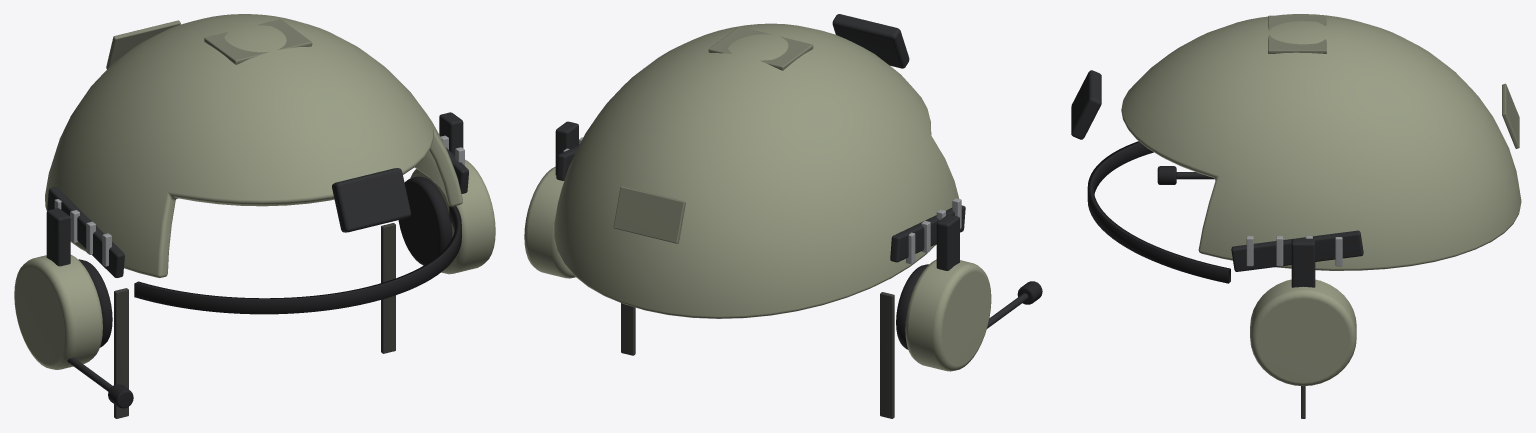
File: helmet_comms_T.glb
The picture shows the model from 3 angles, left to right: view 1: azimuth 30°, elevation 25°; view 2: azimuth 150°, elevation 25°; view 3: azimuth 270°, elevation 25°; orthographic projection. The views are drawn at different scales.
Parts seen in each view (by area): view 1: helmet@Head; view 2: helmet@Head; view 3: helmet@Head.
Boxes of the visible parts, <box> form: helmet@Head: <box>14,14,495,418</box>; helmet@Head: <box>524,14,1042,418</box>; helmet@Head: <box>1071,14,1521,418</box>.
Size of the model in its own units: 0.3911 by 0.3025 by 0.3798.
